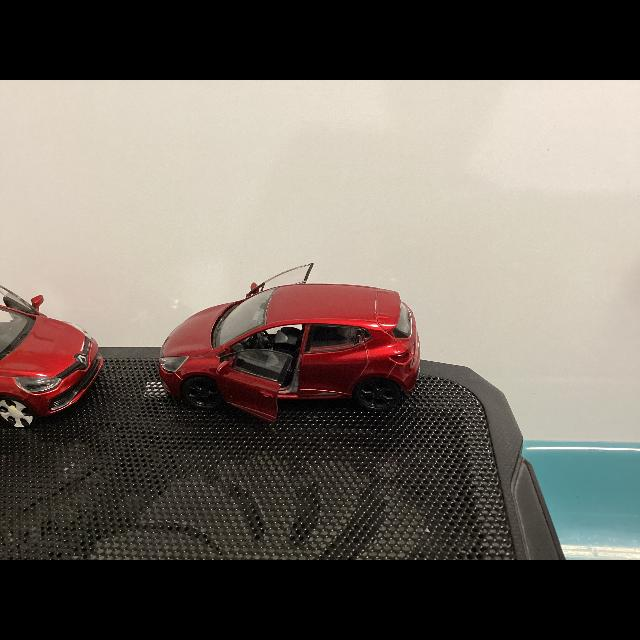Dogru_Jant: (358, 382, 394, 408), (186, 380, 218, 404)
Yanlis_Jant: (0, 398, 34, 428)
